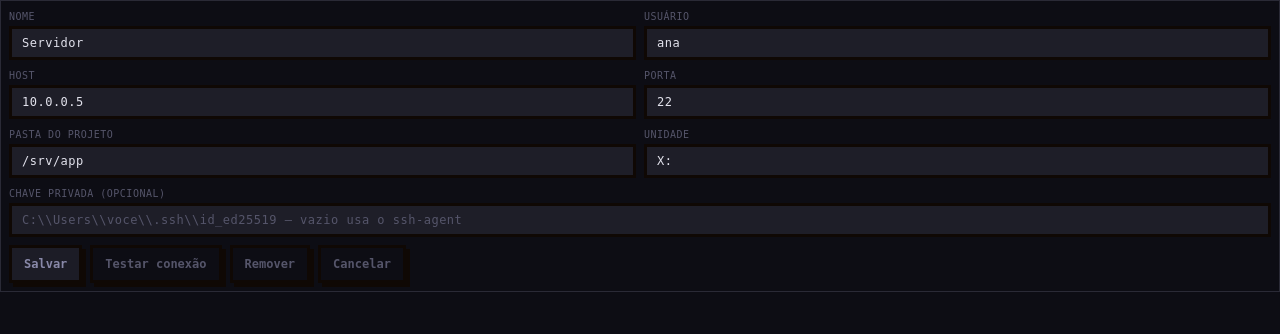
SshConnectionForm › testa a conexão e mostra o que a máquina respondeu
Click the button "Testar conexão".
click(156, 264)  # box top-left (90, 245), bottom-right (222, 283)
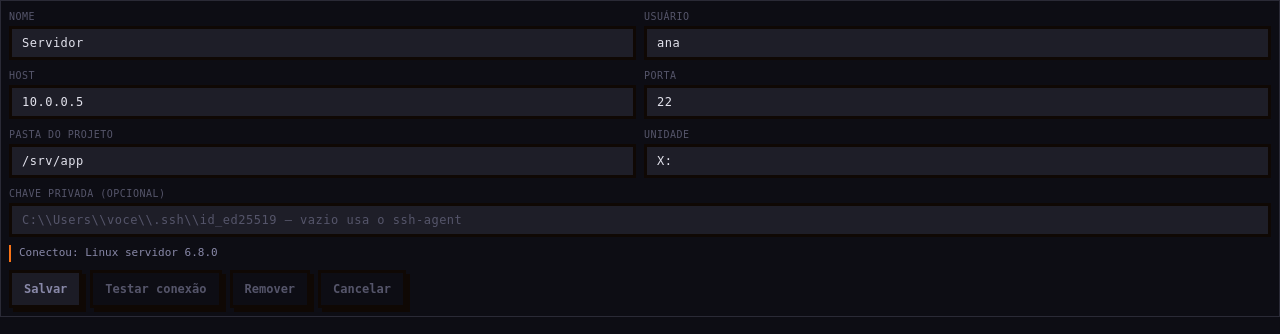
Now the text "Conectou: Linux servidor 6.8.0" is shown, box top-left (9, 245), bottom-right (1271, 262)
